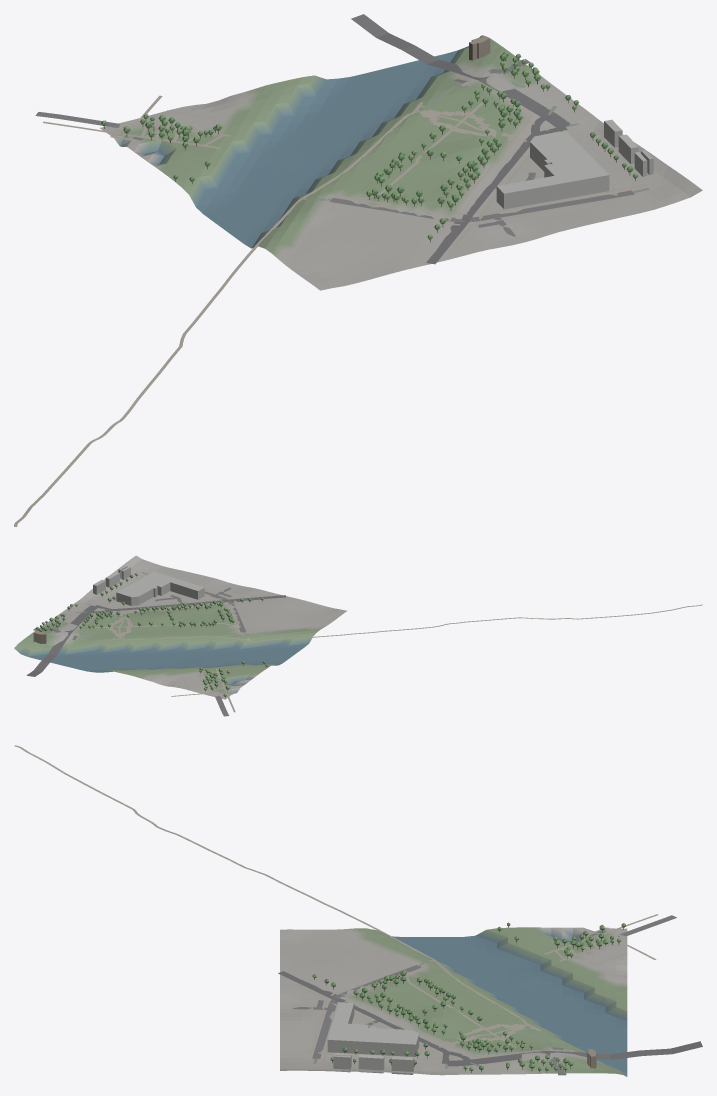
File: tile_-2_6.glb
3 renders of one model, top to bottom at view 1: azimuth 30°, elevation 25°; view 2: azimuth 150°, elevation 25°; view 3: azimuth 270°, elevation 25°, orthographic. The views are drawn at different scales.
Visible parts, largest first — view 1: terrain, roads, buildings, props; view 2: terrain, roads, buildings, props; view 3: terrain, roads, buildings, props.
Boxes of the visible parts, x1,y1,x2,y2 form: terrain: (100,35,702,290); roads: (14,14,649,526); buildings: (469,36,653,209); props: (101,51,638,242); terrain: (14,555,347,699); roads: (26,572,702,716); buildings: (33,565,204,643); props: (36,573,267,697); terrain: (280,927,627,1076); roads: (14,745,702,1075); buildings: (327,1002,596,1074); props: (312,922,625,1072).
Bounding box in the file's own units: 577 × 19.4 × 508.
